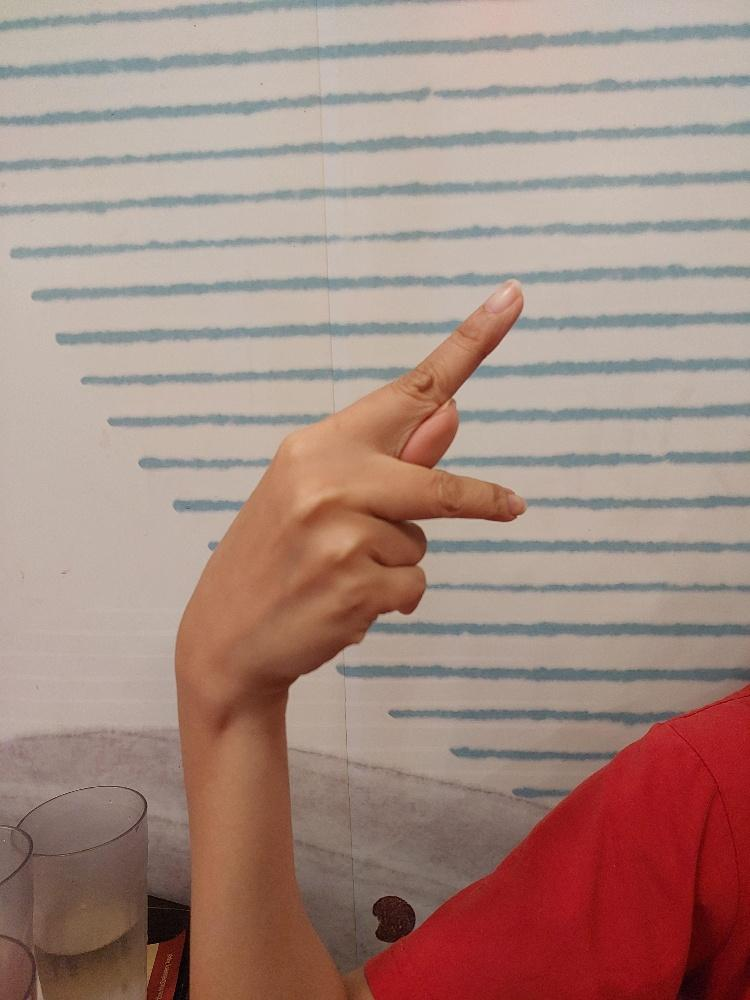k: (185, 276, 533, 696)
